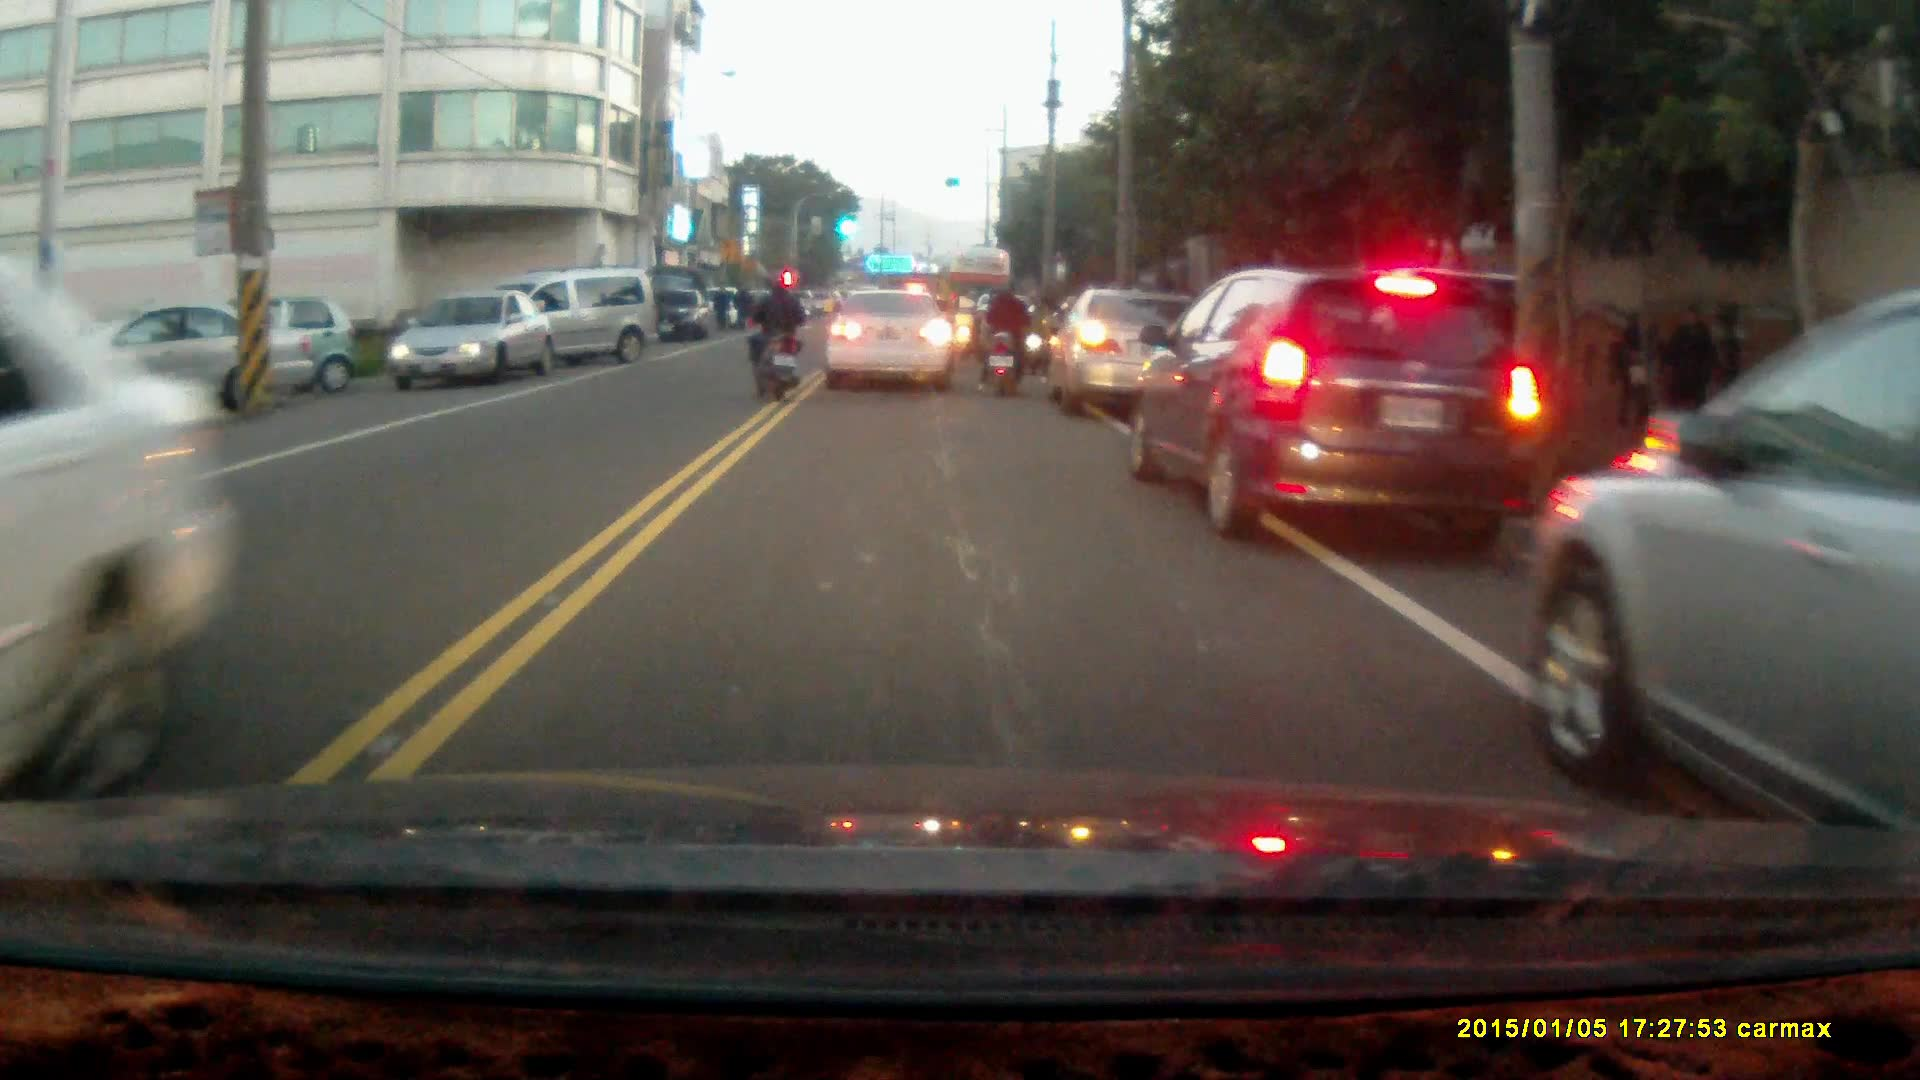pedestrian: (1665, 303, 1719, 444), (1614, 304, 1662, 446)
rider: (976, 272, 1036, 400), (746, 276, 807, 401)
vehicle: (1521, 298, 1920, 861), (1, 268, 227, 812), (1122, 264, 1545, 542), (148, 294, 364, 396), (1046, 288, 1201, 415), (489, 268, 660, 374), (388, 288, 553, 392), (826, 289, 954, 398), (652, 290, 709, 345)
